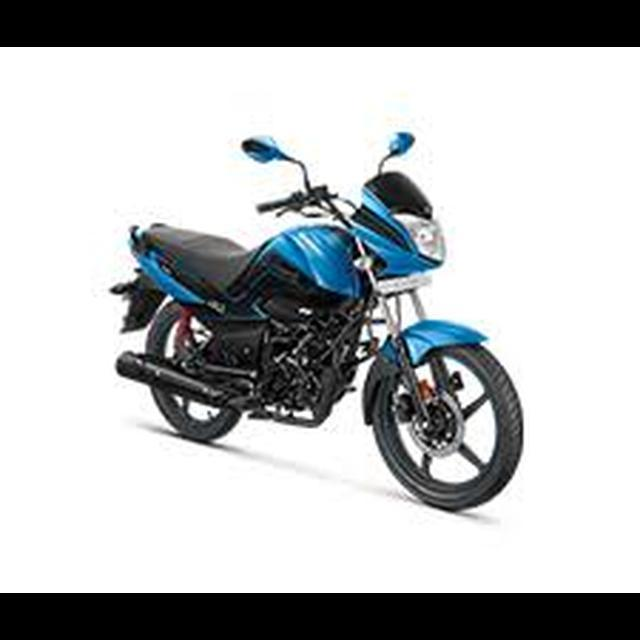motorcycle: (107, 123, 528, 516)
